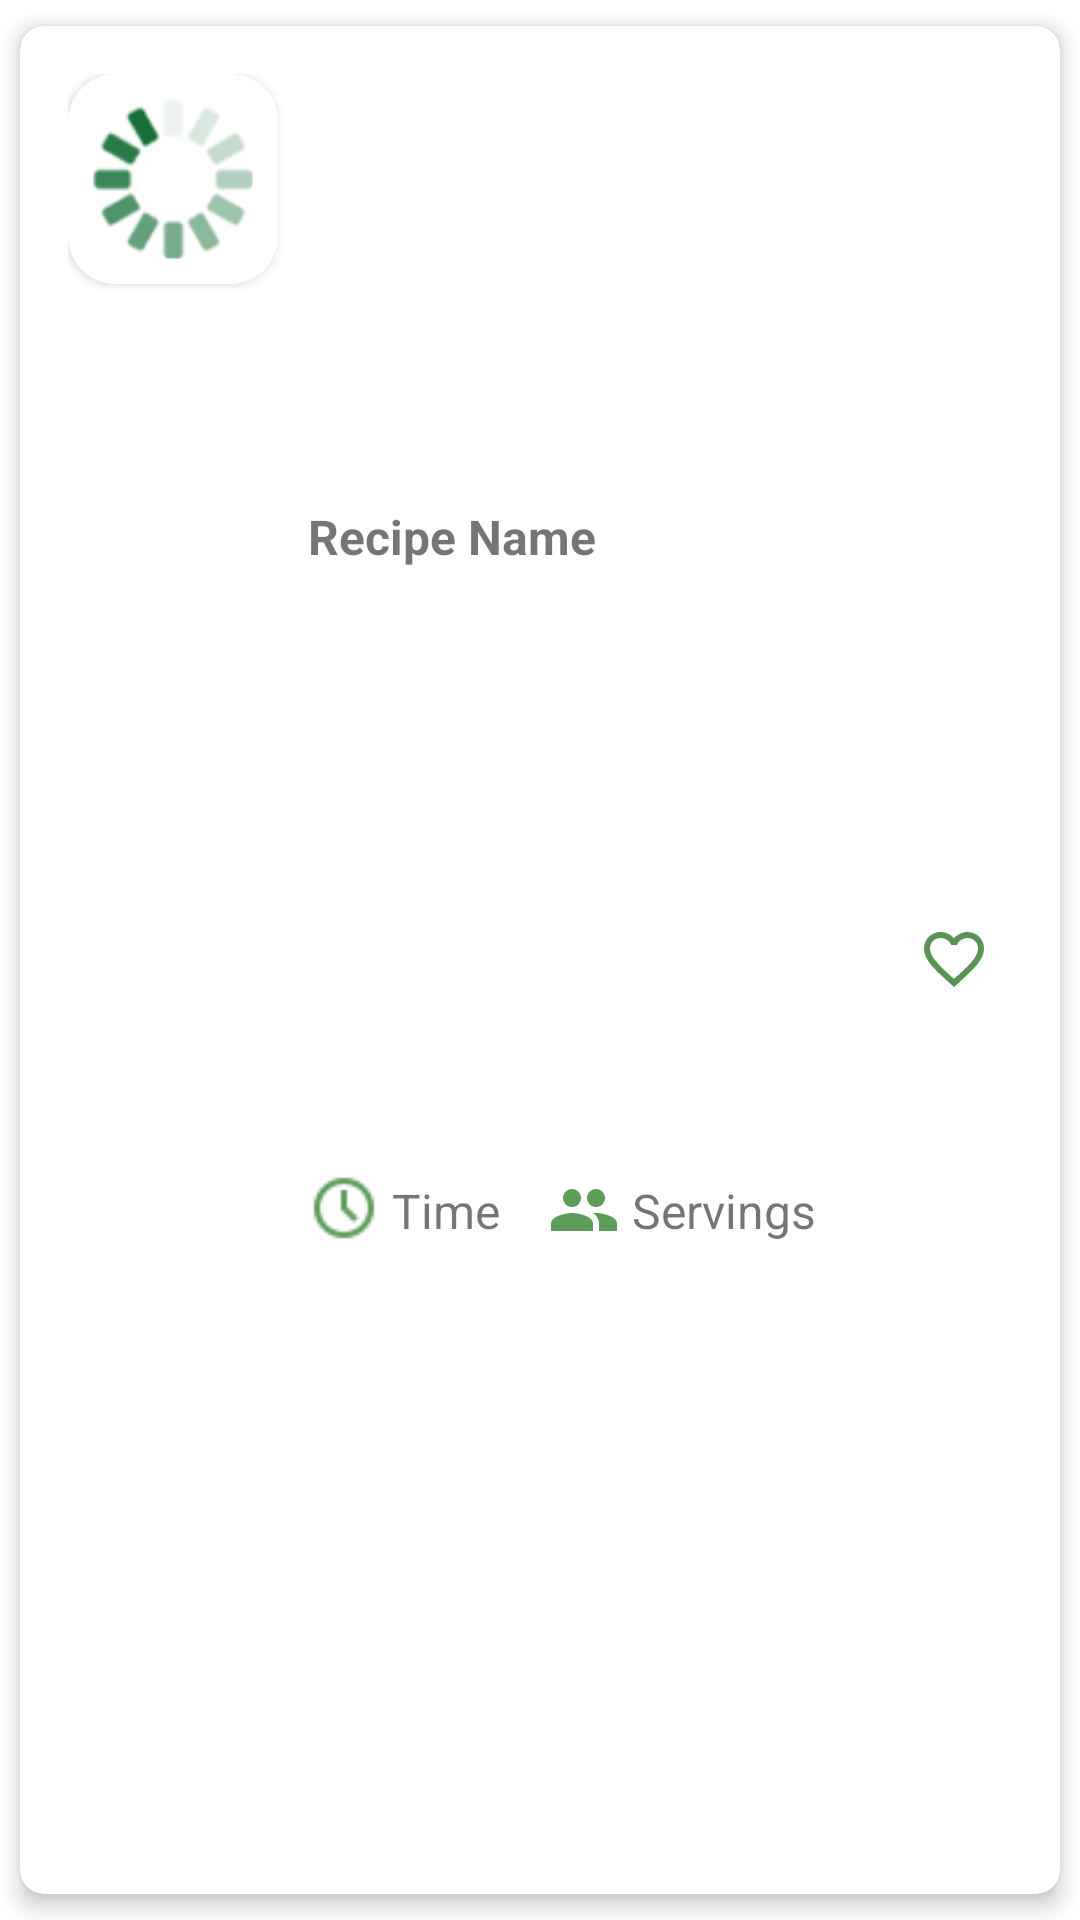

Where to tap for icons on this 1080w x 1920h app screen, as (x=x, y=y):
clock: (x=344, y=1208)
loading: (x=160, y=184)
people: (x=584, y=1210)
